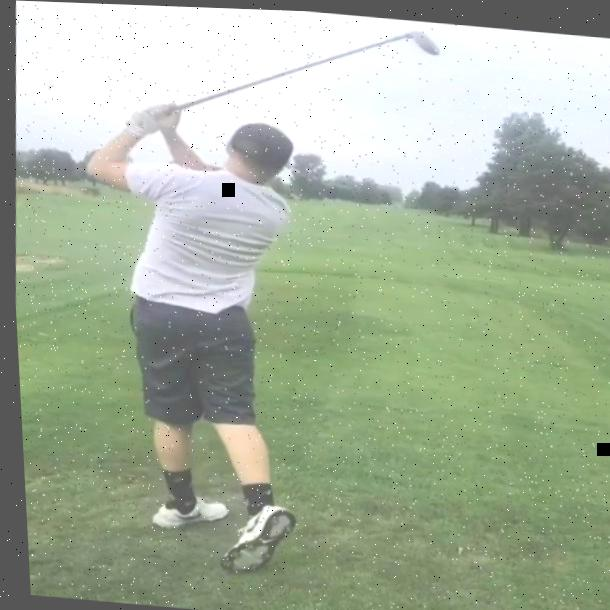ClubHead: (409, 25, 444, 54)
